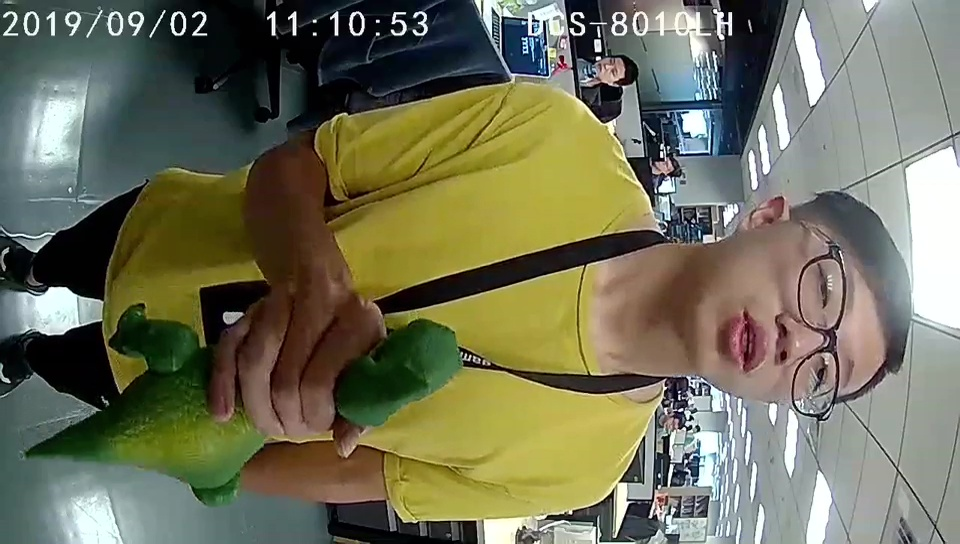rex: (143, 318, 461, 504)
